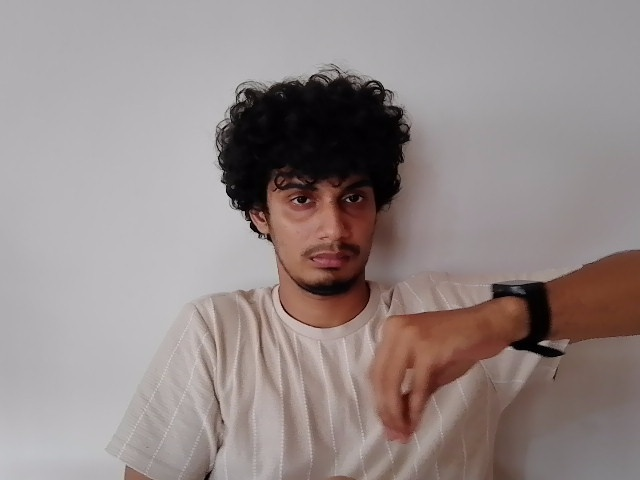learn: (377, 304, 498, 452)
